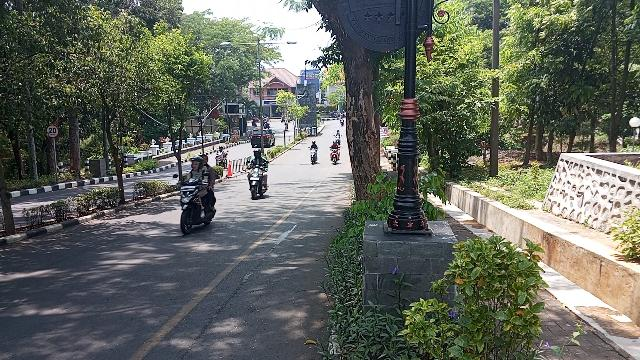helm: (191, 156, 206, 172), (255, 150, 263, 160)
motor: (174, 173, 218, 238), (247, 161, 270, 202)
